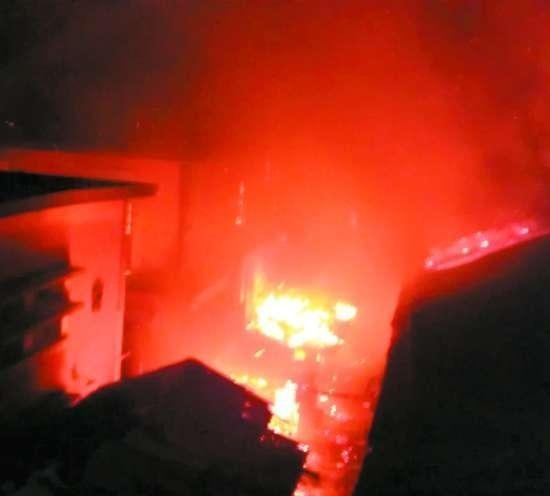fire: (239, 275, 357, 357)
